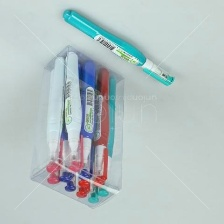correction_fluid: (61, 6, 178, 87), (62, 48, 86, 172), (94, 76, 117, 197), (44, 54, 66, 167), (77, 57, 97, 181), (93, 65, 111, 188)
plastic_box: (26, 41, 126, 211)
